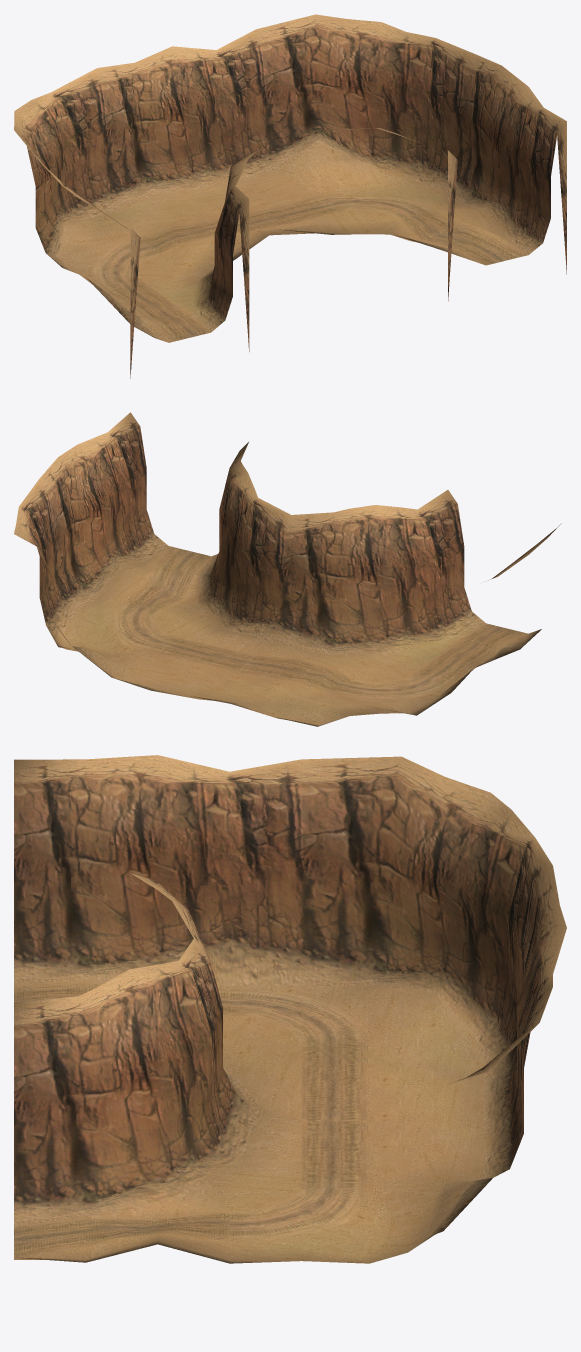
File: Zone05A.glb
3 renders of one model, top to bottom at view 1: azimuth 30°, elevation 25°; view 2: azimuth 150°, elevation 25°; view 3: azimuth 270°, elevation 25°, orthographic. The views are drawn at different scales.
Visible parts, largest first — view 1: ZONE05A022, ZONE05A020, ZONE05A021, ZONE05A017, ZONE05A005, ZONE05A019, ZONE05A011, ZONE05A016, ZONE05A001, ZONE05A012, ZONE05A010, ZONE05A013 (+9 smaller); view 2: ZONE05A001, ZONE05A008, ZONE05A009, ZONE05A011, ZONE05A005, ZONE05A007, ZONE05A010, ZONE05A014, ZONE05A015, ZONE05A017, ZONE05A004, ZONE05A016 (+9 smaller); view 3: ZONE05A012, ZONE05A, ZONE05A006, ZONE05A004, ZONE05A009, ZONE05A019, ZONE05A016, ZONE05A014, ZONE05A010, ZONE05A015, ZONE05A013, ZONE05A003 (+8 smaller).
Boxes of the visible parts, box(x1,y1,x2,y2) form: ZONE05A022: box(256, 14, 389, 177); ZONE05A020: box(97, 46, 210, 213); ZONE05A021: box(172, 29, 289, 198); ZONE05A017: box(370, 32, 474, 188); ZONE05A005: box(462, 87, 566, 274); ZONE05A019: box(40, 68, 130, 223); ZONE05A011: box(416, 54, 528, 209); ZONE05A016: box(291, 87, 436, 212); ZONE05A001: box(155, 160, 249, 351); ZONE05A012: box(14, 122, 97, 274); ZONE05A010: box(336, 195, 481, 240); ZONE05A013: box(65, 211, 177, 269); ZONE05A001: box(370, 490, 494, 655); ZONE05A008: box(257, 509, 382, 669); ZONE05A009: box(178, 486, 291, 655); ZONE05A011: box(39, 445, 122, 620); ZONE05A005: box(77, 412, 168, 578); ZONE05A007: box(326, 570, 449, 689); ZONE05A010: box(98, 567, 212, 637); ZONE05A014: box(192, 655, 335, 703); ZONE05A015: box(105, 637, 256, 685); ZONE05A017: box(16, 479, 76, 648); ZONE05A004: box(144, 442, 248, 598); ZONE05A016: box(46, 613, 177, 664); ZONE05A012: box(301, 756, 445, 1011); ZONE05A: box(14, 755, 157, 1002); ZONE05A006: box(157, 755, 301, 1015); ZONE05A004: box(14, 993, 157, 1259); ZONE05A009: box(157, 939, 301, 1194); ZONE05A019: box(445, 829, 552, 1060); ZONE05A016: box(301, 1181, 445, 1263); ZONE05A014: box(301, 1051, 445, 1136); ZONE05A010: box(157, 1173, 301, 1259); ZONE05A015: box(301, 1119, 445, 1198); ZONE05A013: box(301, 993, 445, 1073); ZONE05A003: box(79, 964, 157, 1152).
Bounding box in the file's own units: 45.53 × 15.51 × 30.76.
4 materials, 4 textured.
